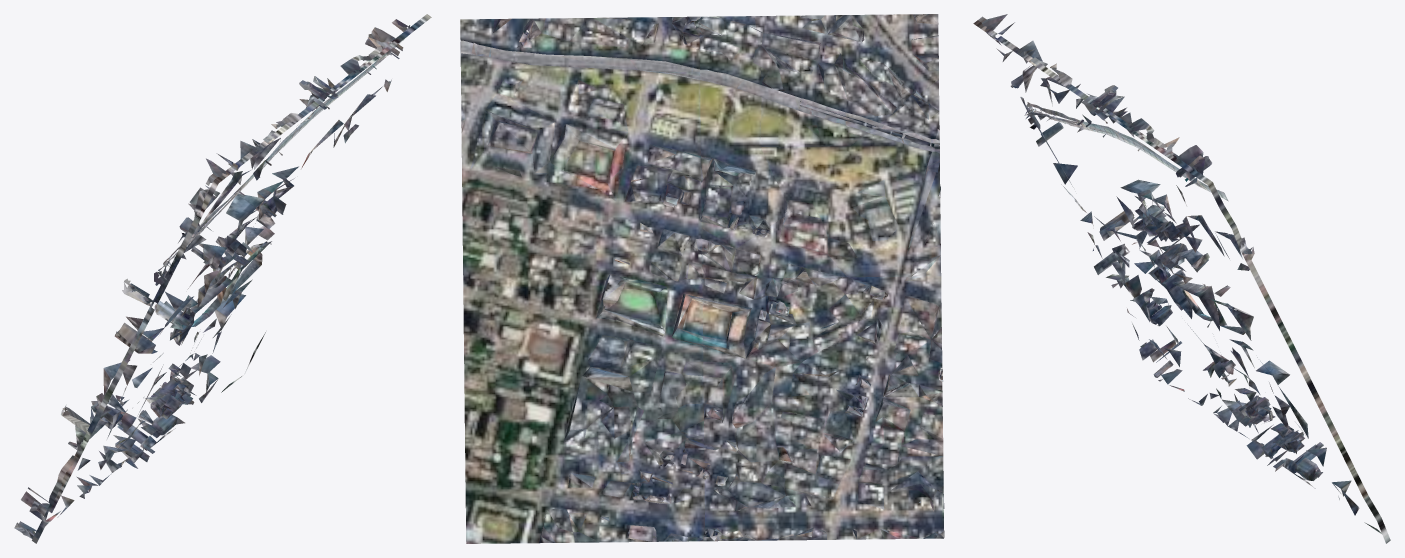
3 views of the same model, side by side, from view 1: azimuth 30°, elevation 25°; view 2: azimuth 150°, elevation 25°; view 3: azimuth 270°, elevation 25° (orthographic). The views are drawn at different scales.
Bounding box in the file's own units: 1248 × 1141 × 1031.
2 materials, 2 textured.
